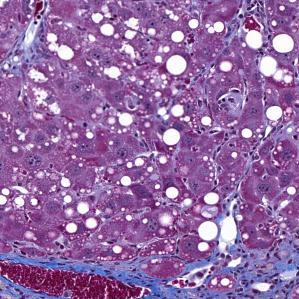fibrosis: (116, 240, 288, 299)
